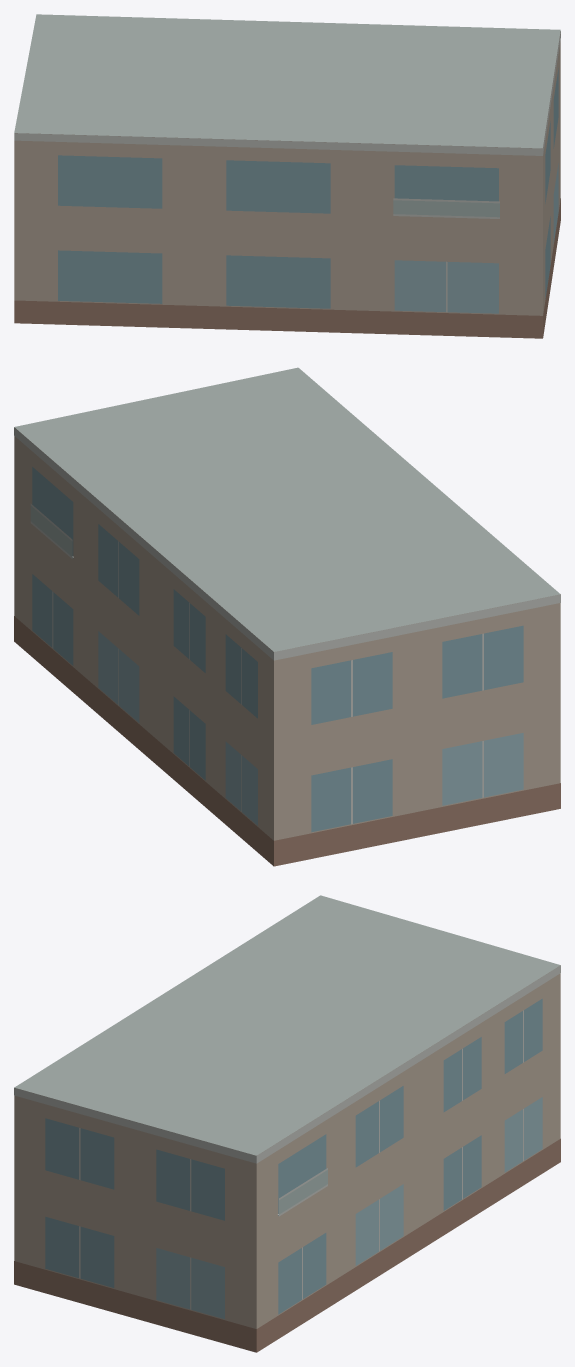
File: survey-upis-32903959.glb
3 renders of one model, top to bottom at view 1: azimuth 30°, elevation 25°; view 2: azimuth 150°, elevation 25°; view 3: azimuth 270°, elevation 25°, orthographic. The views are drawn at different scales.
Visible parts, largest first — view 1: survey-upis-32903959.tmp; view 2: survey-upis-32903959.tmp; view 3: survey-upis-32903959.tmp.
Boxes of the visible parts, box(x1,y1,x2,y2) form: survey-upis-32903959.tmp: box(14, 14, 560, 338); survey-upis-32903959.tmp: box(14, 367, 560, 866); survey-upis-32903959.tmp: box(14, 895, 560, 1352).
Bounding box in the file's own units: 17.32 × 6.1 × 15.36.
